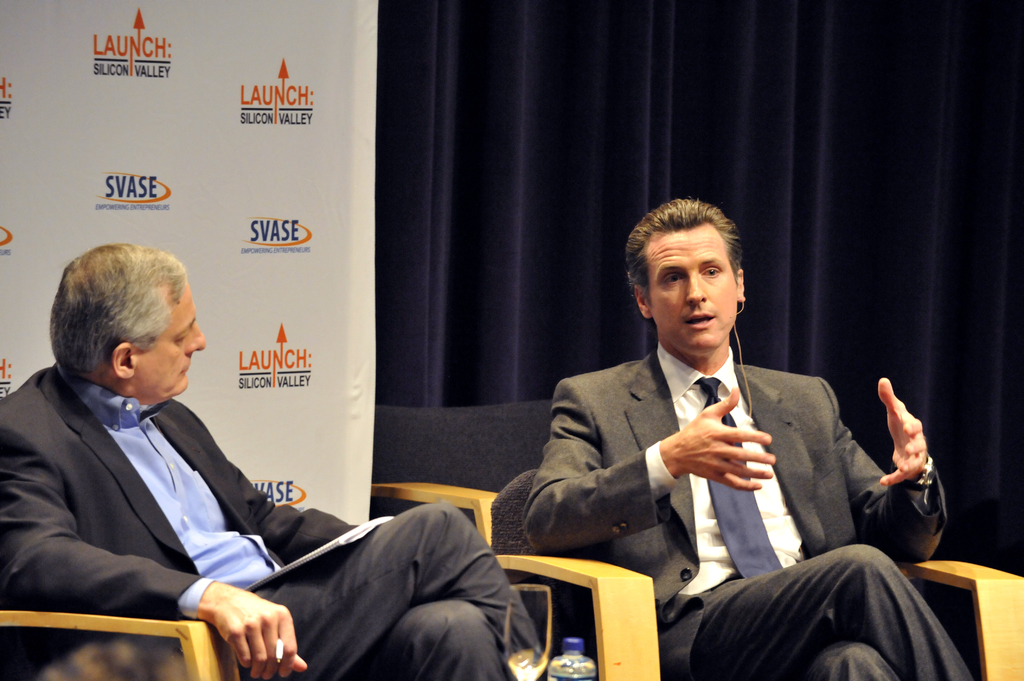Human_hand: (673, 387, 777, 492), (213, 591, 308, 679), (876, 376, 929, 488)
